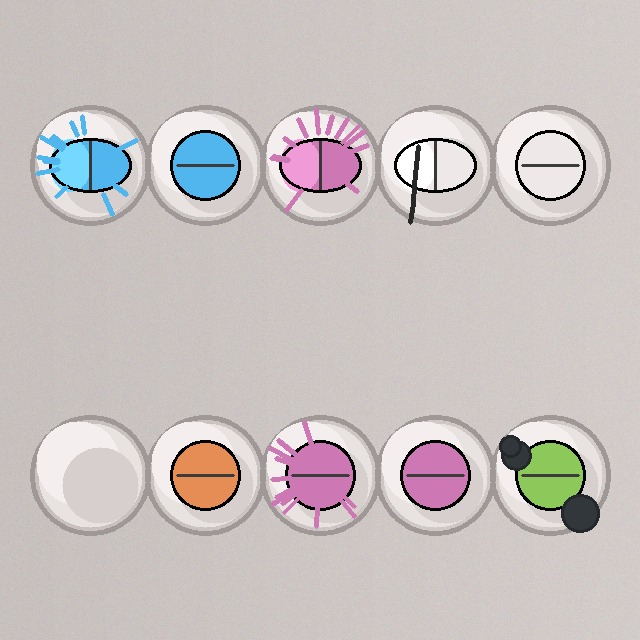crack: (373, 103, 497, 227)
flash: (28, 103, 152, 227), (258, 103, 382, 227), (258, 413, 382, 537)
missing: (28, 413, 152, 537)
stain: (488, 413, 612, 537)
